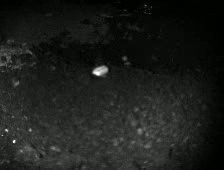corn: (91, 63, 111, 79), (121, 59, 134, 68), (118, 52, 131, 60)
